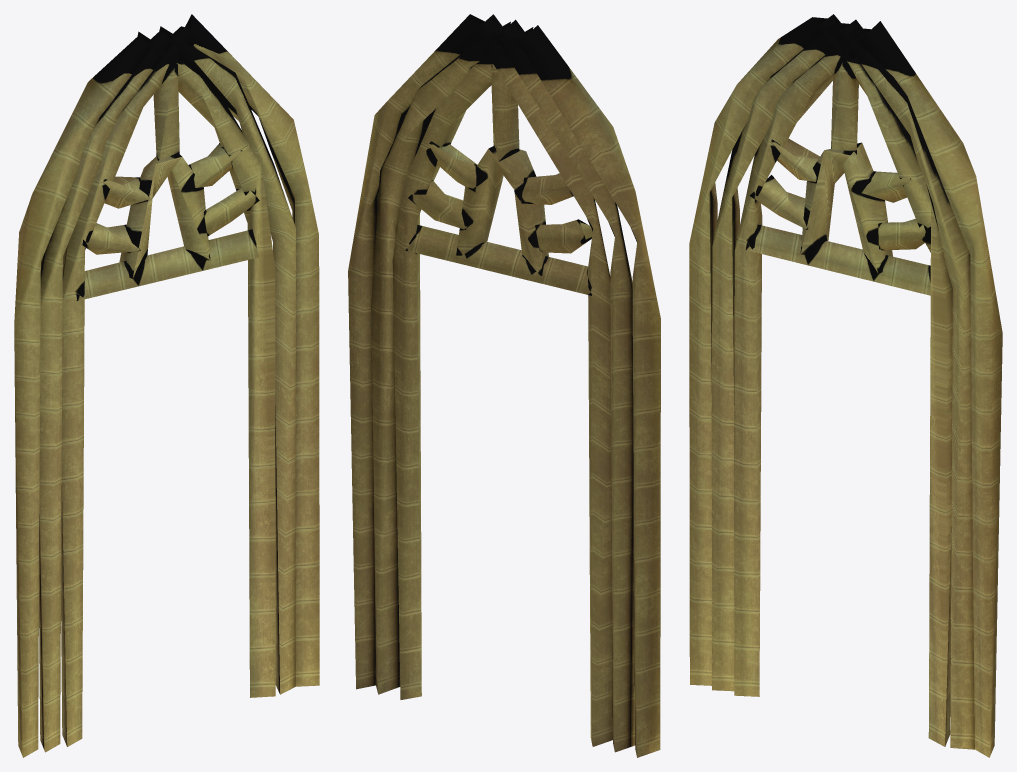
File: Bamboo Door_LOD5.glb
3 views of the same model, side by side, from view 1: azimuth 30°, elevation 25°; view 2: azimuth 150°, elevation 25°; view 3: azimuth 330°, elevation 25° (orthographic).
Visible parts, largest first — view 1: Bamboo Door_PROCESSED.001_LOD5; view 2: Bamboo Door_PROCESSED.001_LOD5; view 3: Bamboo Door_PROCESSED.001_LOD5.
Boxes of the visible parts, bbox=[...] form: Bamboo Door_PROCESSED.001_LOD5: bbox=[14, 14, 319, 757]; Bamboo Door_PROCESSED.001_LOD5: bbox=[348, 14, 660, 757]; Bamboo Door_PROCESSED.001_LOD5: bbox=[689, 14, 1002, 757].
Size of the model in its own units: 5.14 by 11.28 by 0.4731.
1 material, 1 textured.
